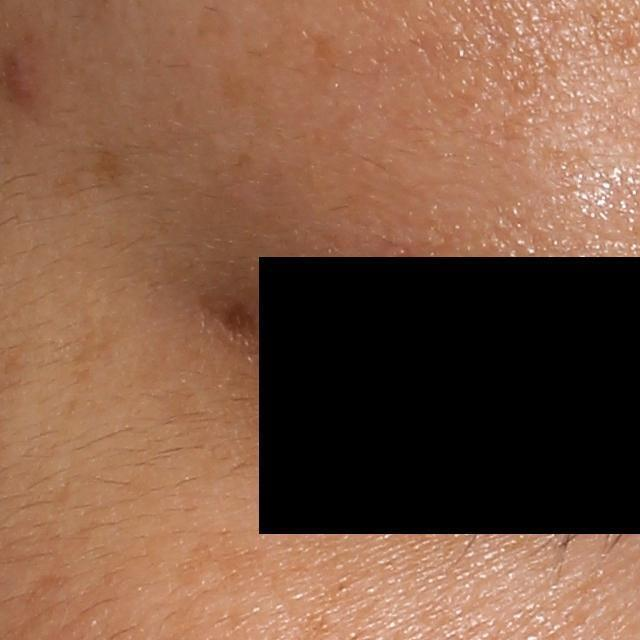melasma: (174, 532, 275, 601), (50, 145, 137, 209), (16, 569, 73, 611)
papule: (3, 47, 40, 104)
